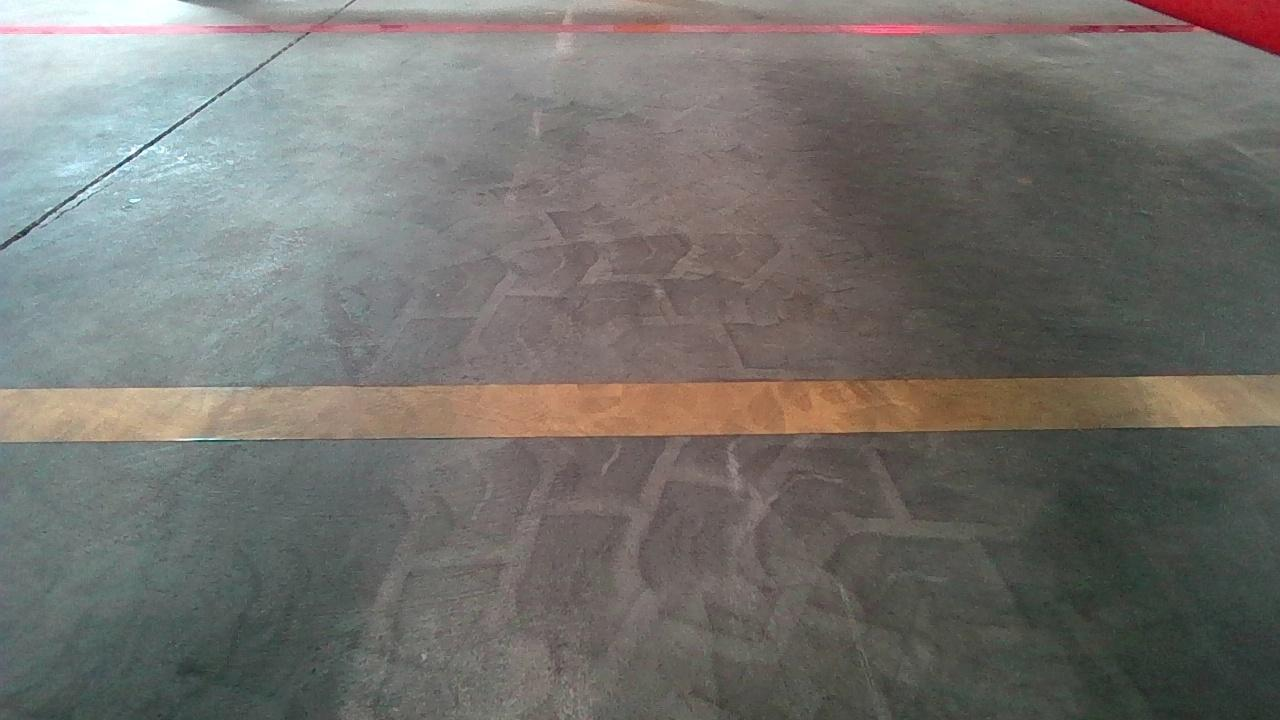red_line: (23, 18, 1172, 41)
yellow_line: (4, 370, 1276, 442)
